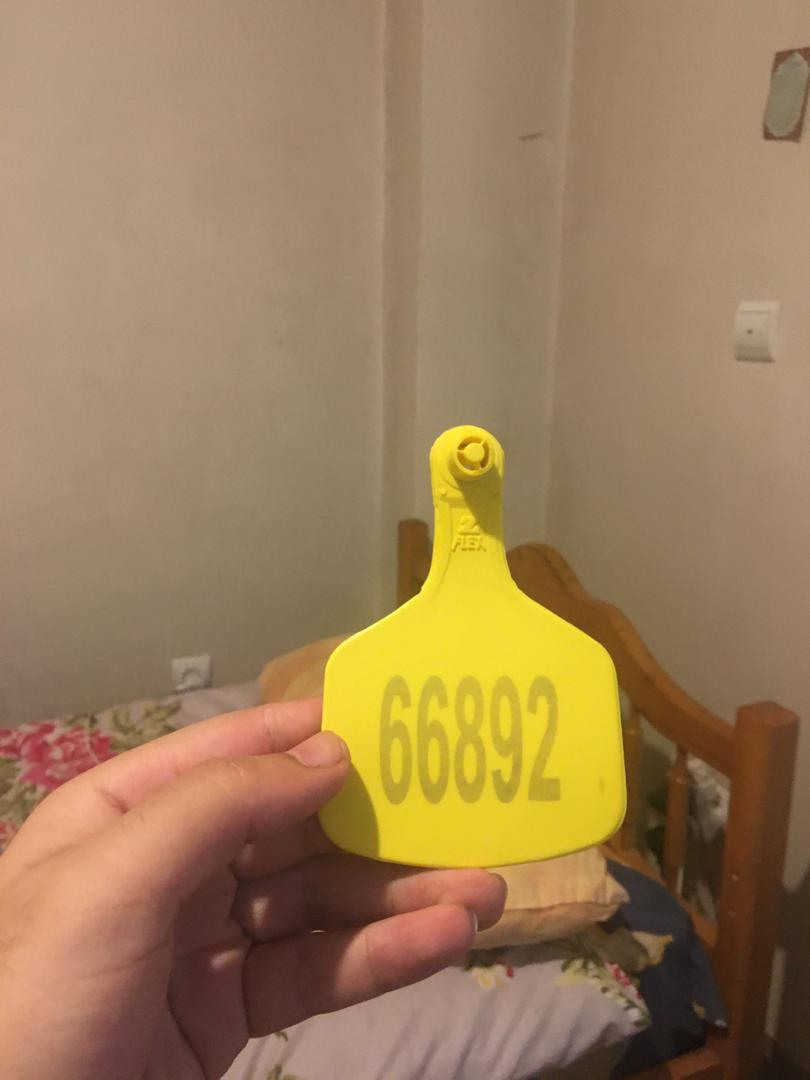digit: (378, 674, 564, 803)
